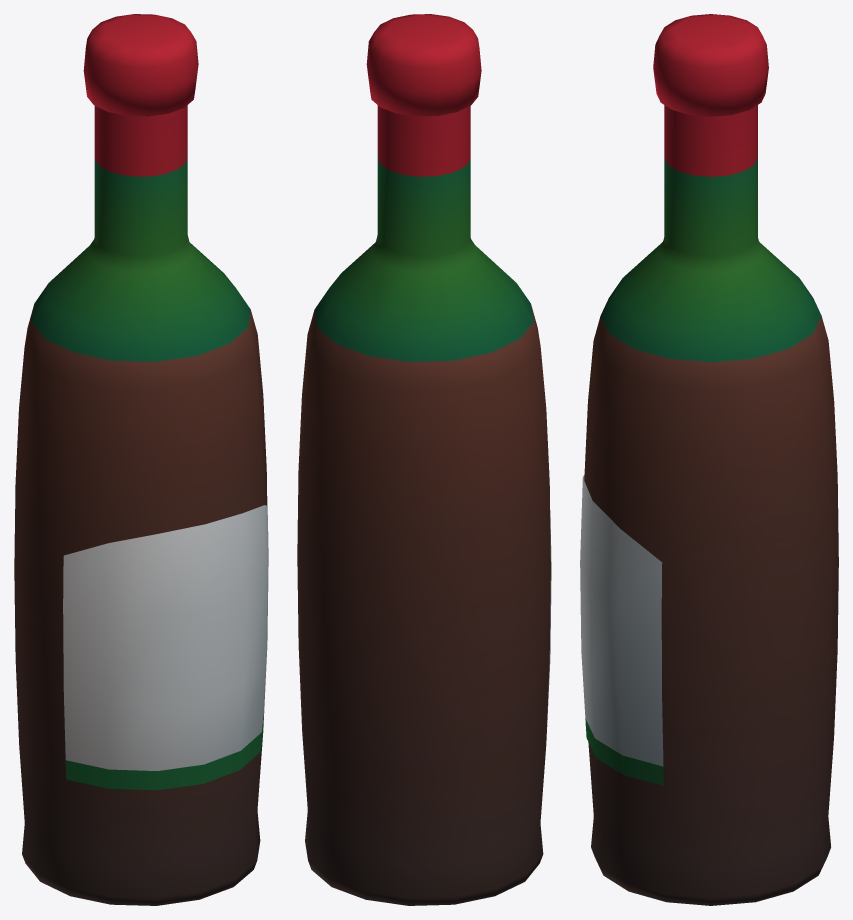
File: bottle_011.fbx
3 views of the same model, side by side, from view 1: azimuth 30°, elevation 25°; view 2: azimuth 150°, elevation 25°; view 3: azimuth 270°, elevation 25° (orthographic).
Parts seen in each view (by area): view 1: bottle_011; view 2: bottle_011; view 3: bottle_011.
Part boxes in pixels (bbox=[...]): bottle_011: bbox=[14, 14, 268, 905]; bottle_011: bbox=[297, 14, 551, 905]; bottle_011: bbox=[580, 14, 838, 905].
Bounding box in the file's own units: 8.56 × 8.66 × 30.62.
